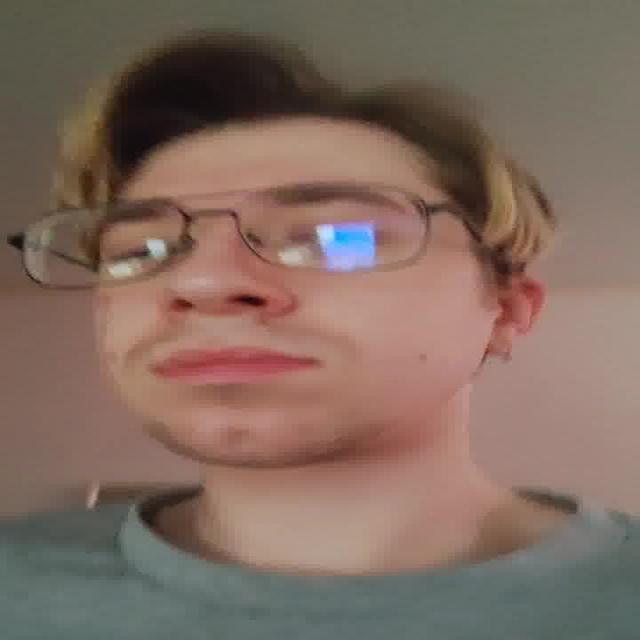earlobe: (486, 275, 546, 361)
